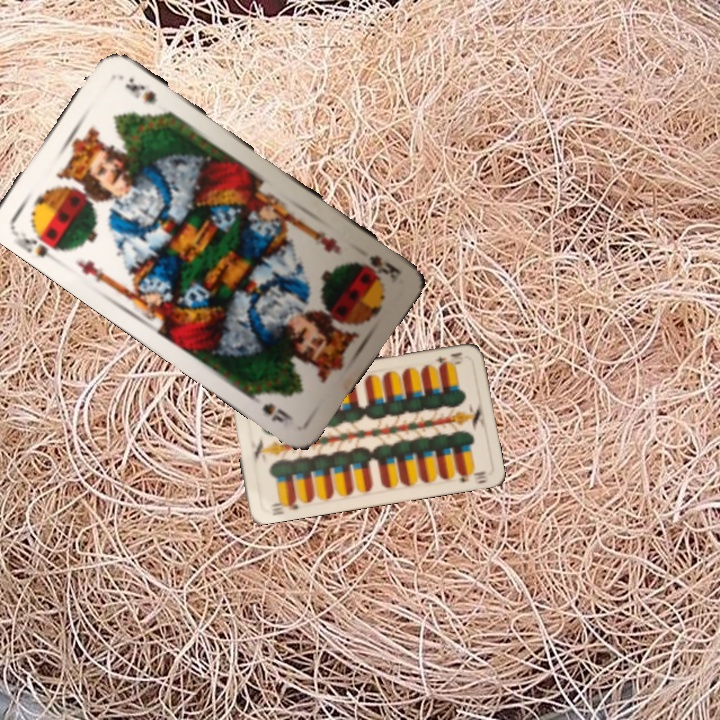E10: (266, 495, 301, 518), (432, 348, 465, 369)
SK: (6, 222, 65, 261), (365, 250, 404, 283)
